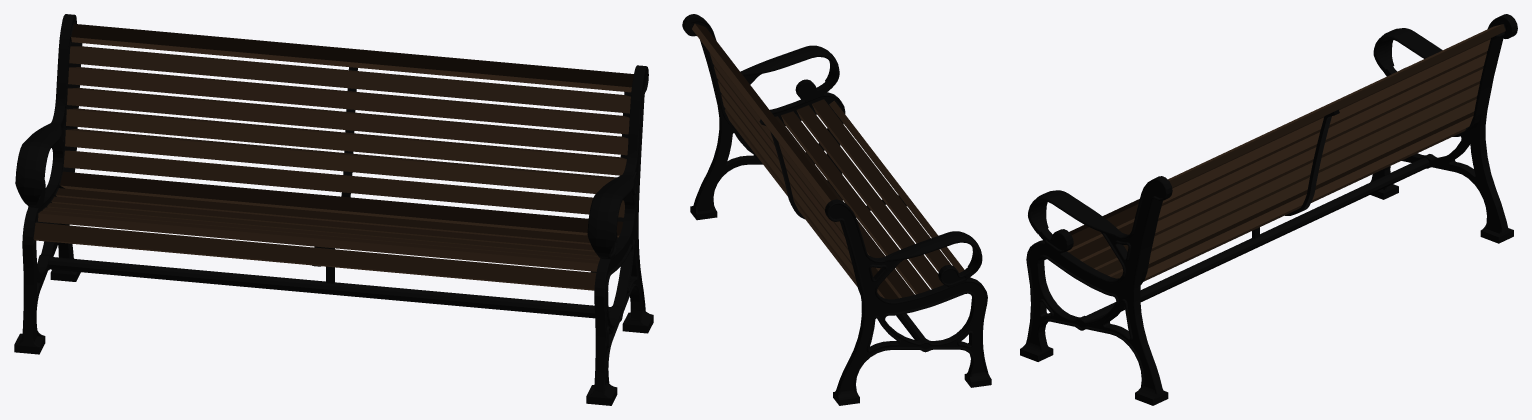
The model's file is props_Bench.FBX.
The picture shows the model from 3 angles, left to right: view 1: azimuth 30°, elevation 25°; view 2: azimuth 150°, elevation 25°; view 3: azimuth 270°, elevation 25°; orthographic projection. The views are drawn at different scales.
Parts seen in each view (by area): view 1: seat, frame; view 2: seat, frame; view 3: seat, frame.
Boxes of the visible parts, box(x1,y1,x2,y2) form: seat: box(33, 24, 633, 290); frame: box(14, 14, 653, 405); seat: box(692, 23, 970, 299); frame: box(682, 14, 991, 405); seat: box(1067, 24, 1505, 281); frame: box(1020, 14, 1517, 405).
Size of the model in its own units: 178 by 84.31 by 170.
